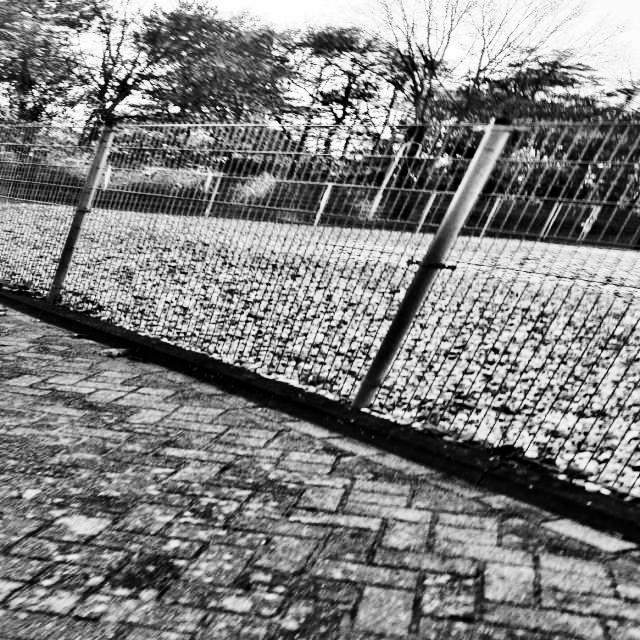fences: (134, 121, 639, 488), (3, 122, 118, 308)
